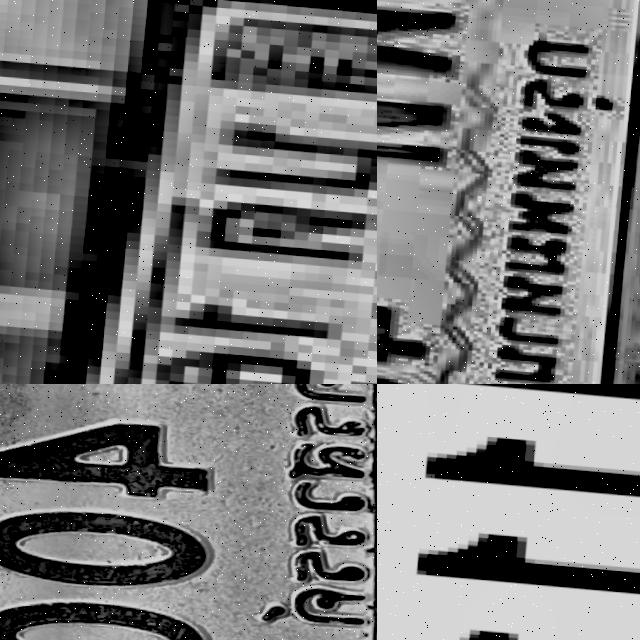license-plate: (29, 0, 377, 384), (377, 0, 640, 384), (0, 384, 377, 640), (377, 384, 640, 640)
